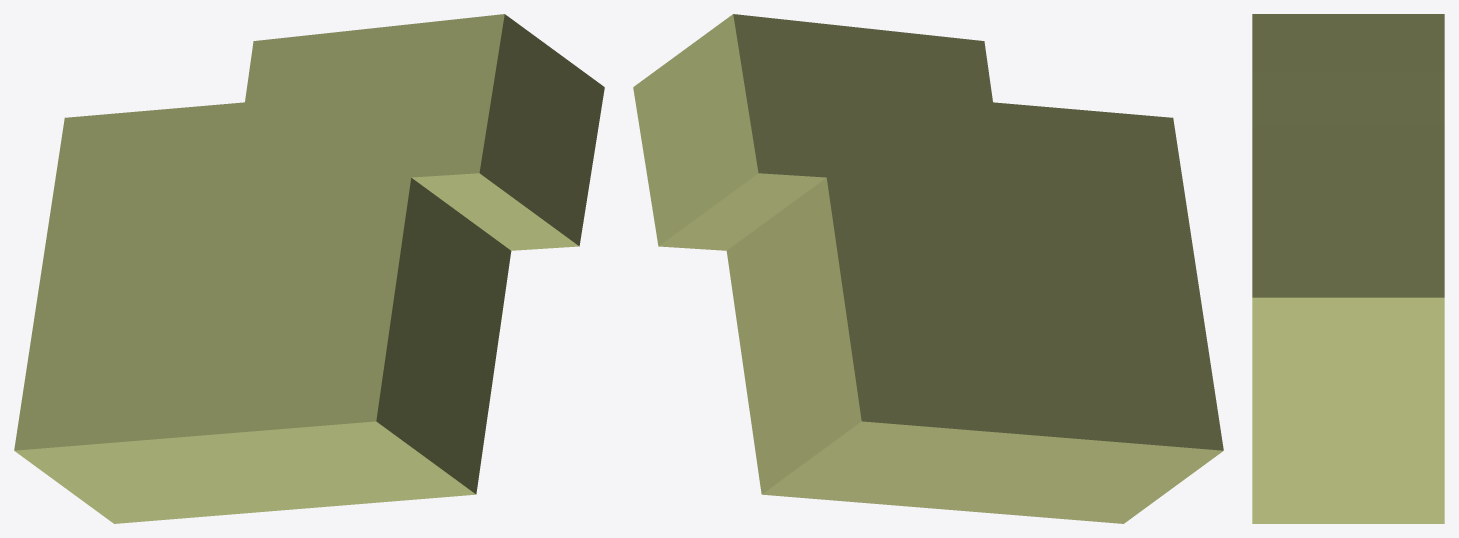
The picture shows the model from 3 angles, left to right: view 1: azimuth 30°, elevation 25°; view 2: azimuth 150°, elevation 25°; view 3: azimuth 270°, elevation 25°; orthographic projection. The views are drawn at different scales.
Parts seen in each view (by area): view 1: 0_3_0_1_1_3_1_1_1_1; view 2: 0_3_0_1_1_3_1_1_1_1; view 3: 0_3_0_1_1_3_1_1_1_1.
Part boxes in pixels (x1,y1,x2,y2): 0_3_0_1_1_3_1_1_1_1: (14, 14, 604, 523); 0_3_0_1_1_3_1_1_1_1: (633, 14, 1223, 523); 0_3_0_1_1_3_1_1_1_1: (1252, 14, 1444, 523).
Bounding box in the file's own units: 16.98 × 13.57 × 6.
